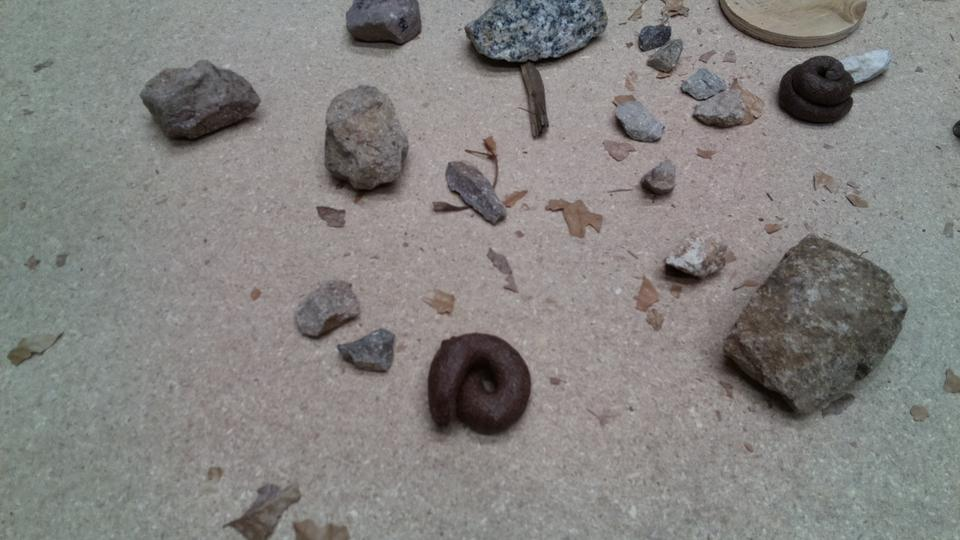poop: (425, 331, 535, 440), (776, 51, 858, 127)
